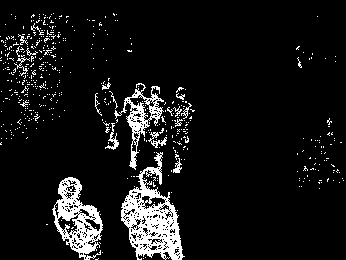person: (118, 165, 185, 258), (52, 177, 104, 260), (168, 86, 196, 175), (122, 79, 148, 171), (92, 76, 121, 152), (146, 83, 169, 178)
